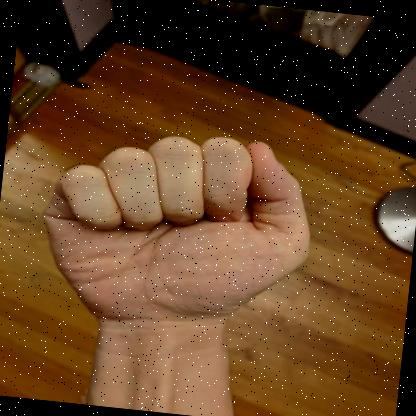A: (42, 136, 310, 339)
